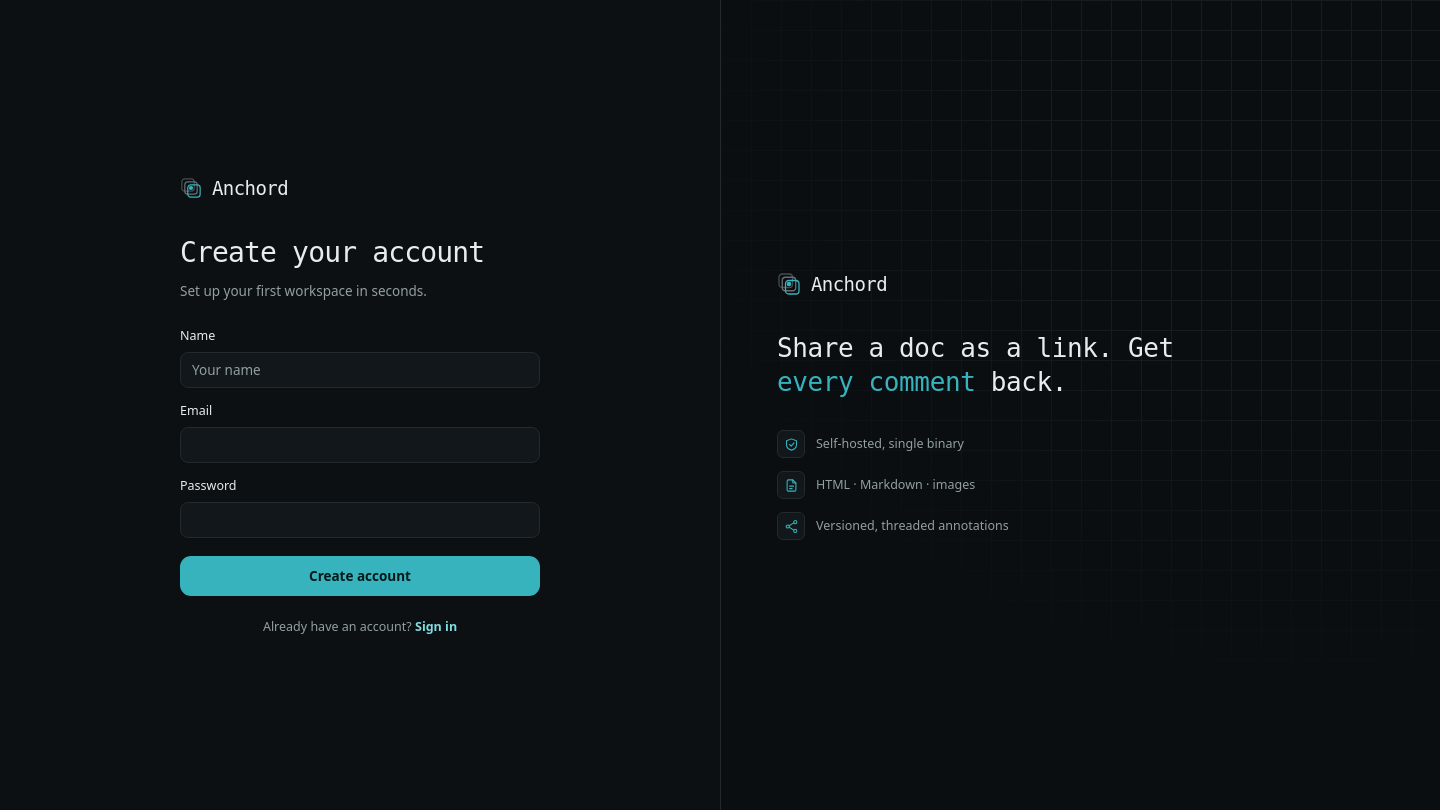
Scenario: auth-ui S-001 — sign up and verify email › C-003: a successful sign-up writes NO auth token to localStorage/sessionStorage (identity rides the server session)
In the field labelled "Name": (360, 370) x1=180 y1=352 x2=540 y2=388, type "Ada Lovelace"
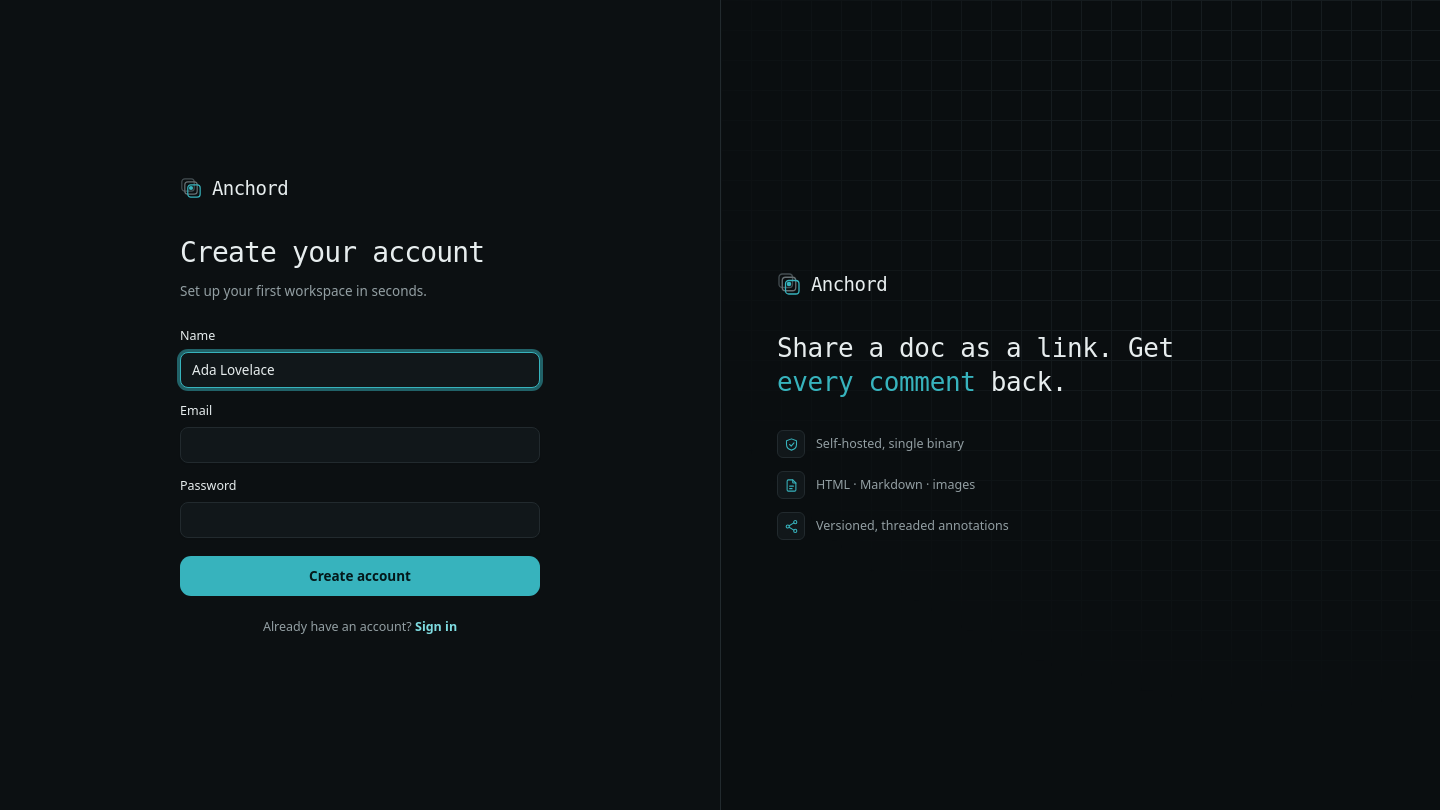
In the field labelled "Email": (360, 445) x1=180 y1=427 x2=540 y2=463, type "new@acme.com"
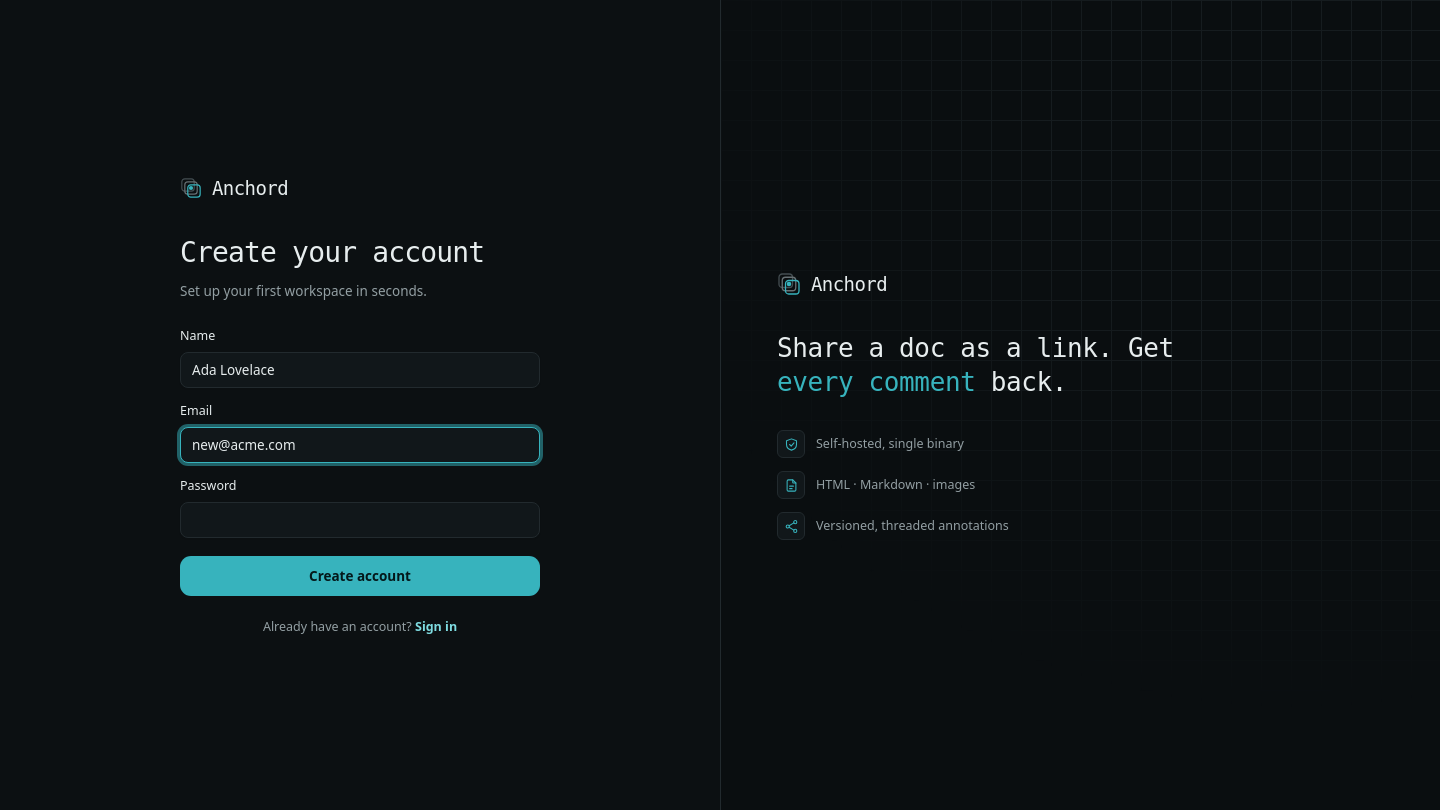
In the password field labelled "Password": (360, 520) x1=180 y1=502 x2=540 y2=538, type "longenough"
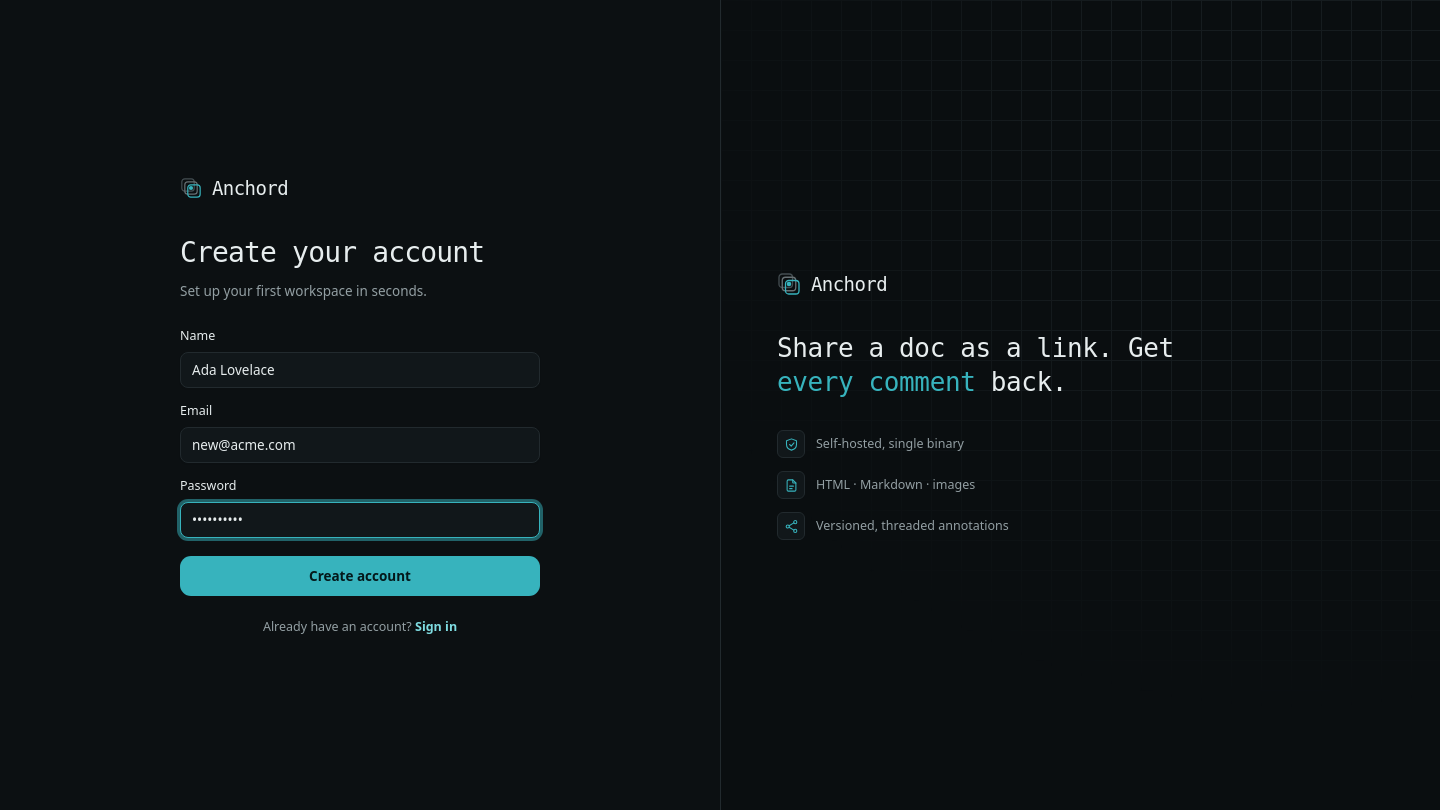
Click the button "Create account": (360, 576) x1=180 y1=556 x2=540 y2=596
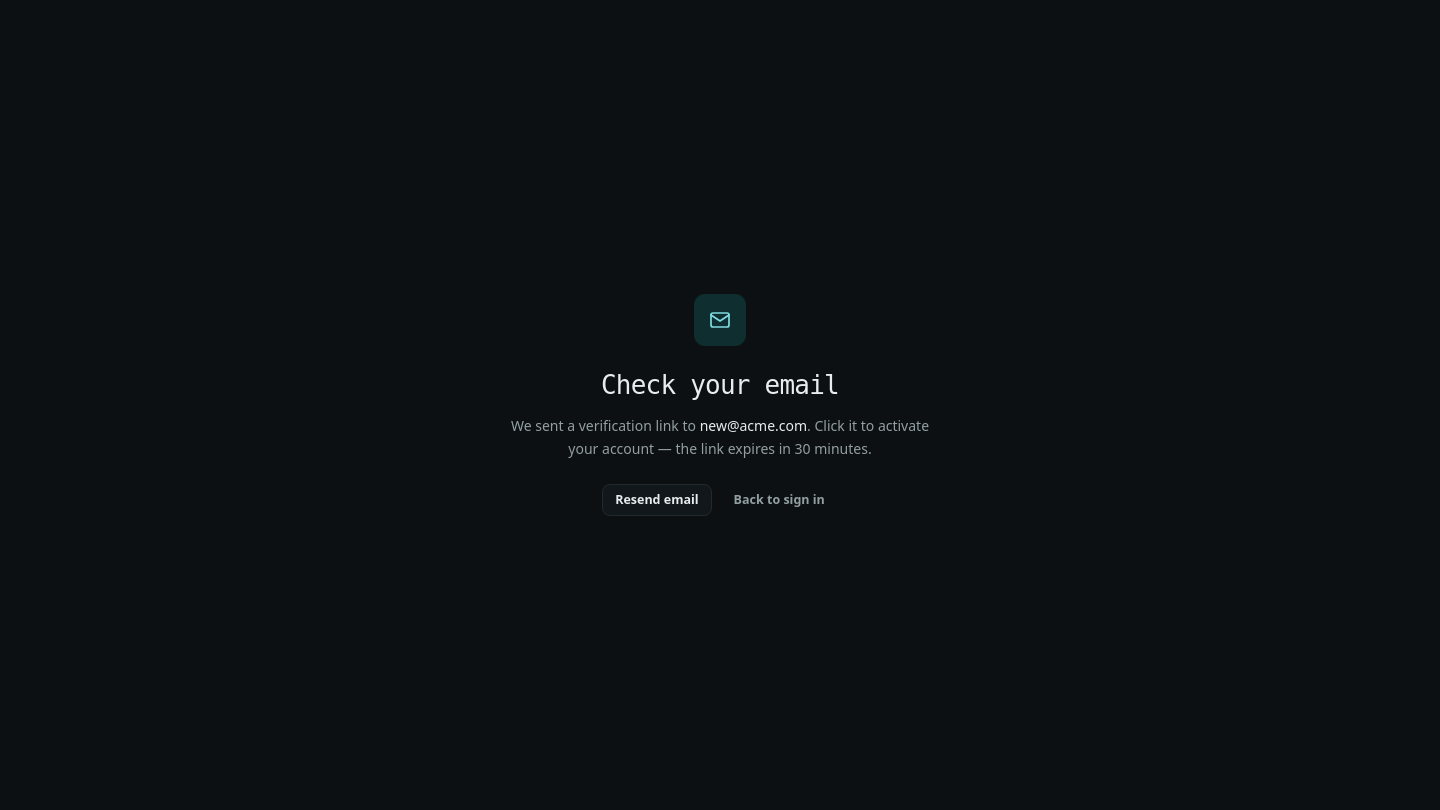
Now the heading "Check your email" is shown, box x1=601 y1=370 x2=839 y2=400
